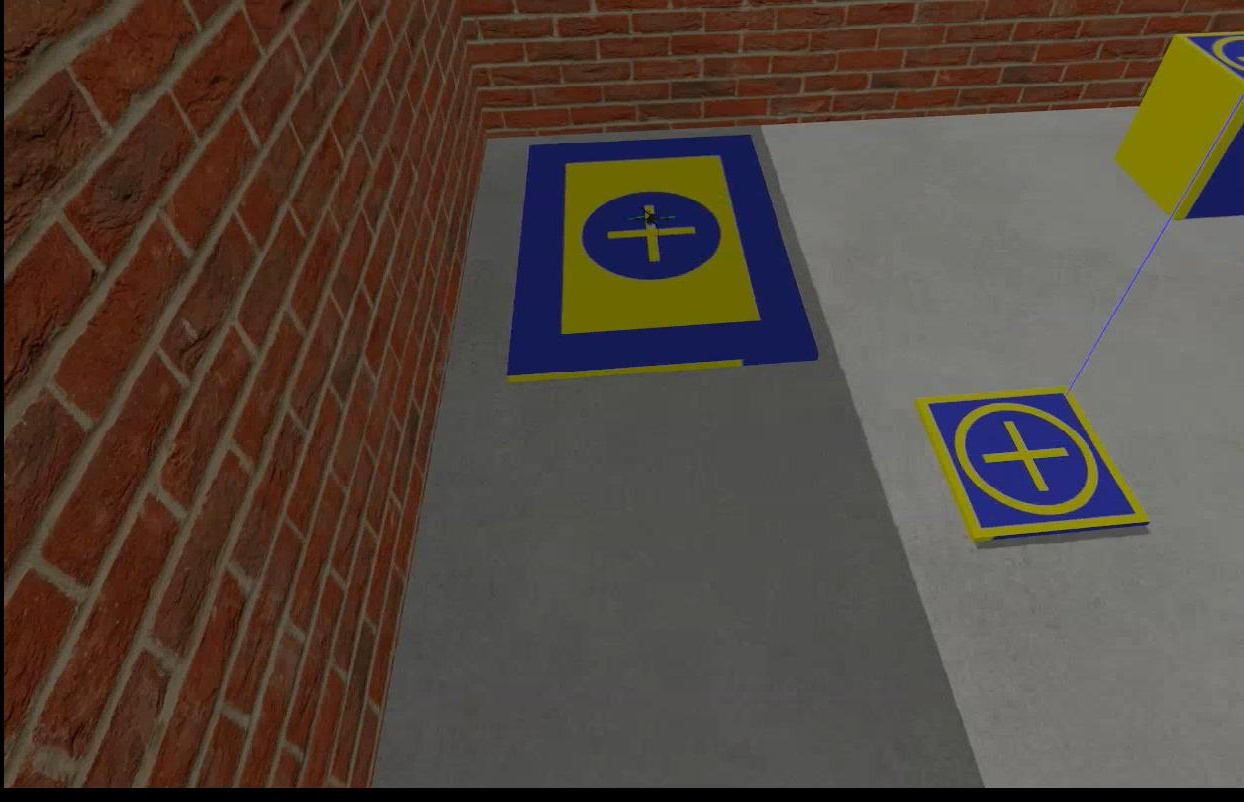large_base: (501, 130, 812, 385)
small_base: (920, 387, 1145, 549), (1175, 23, 1242, 96)
